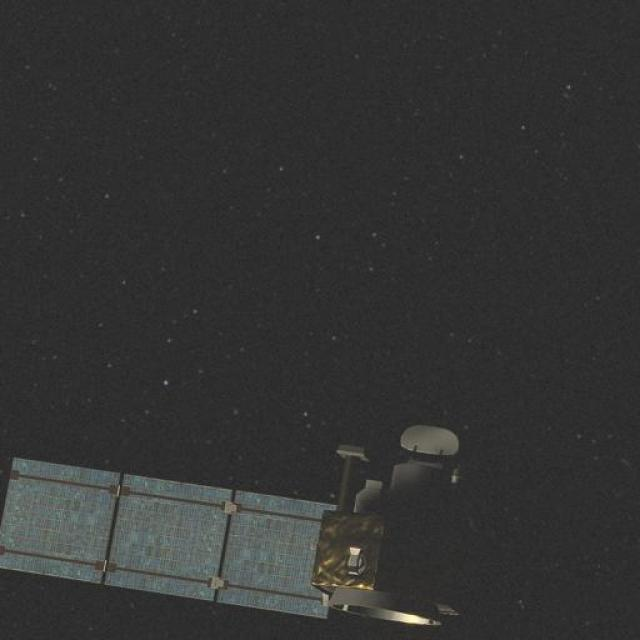earth_observation_sat_1: (0, 409, 508, 640)
